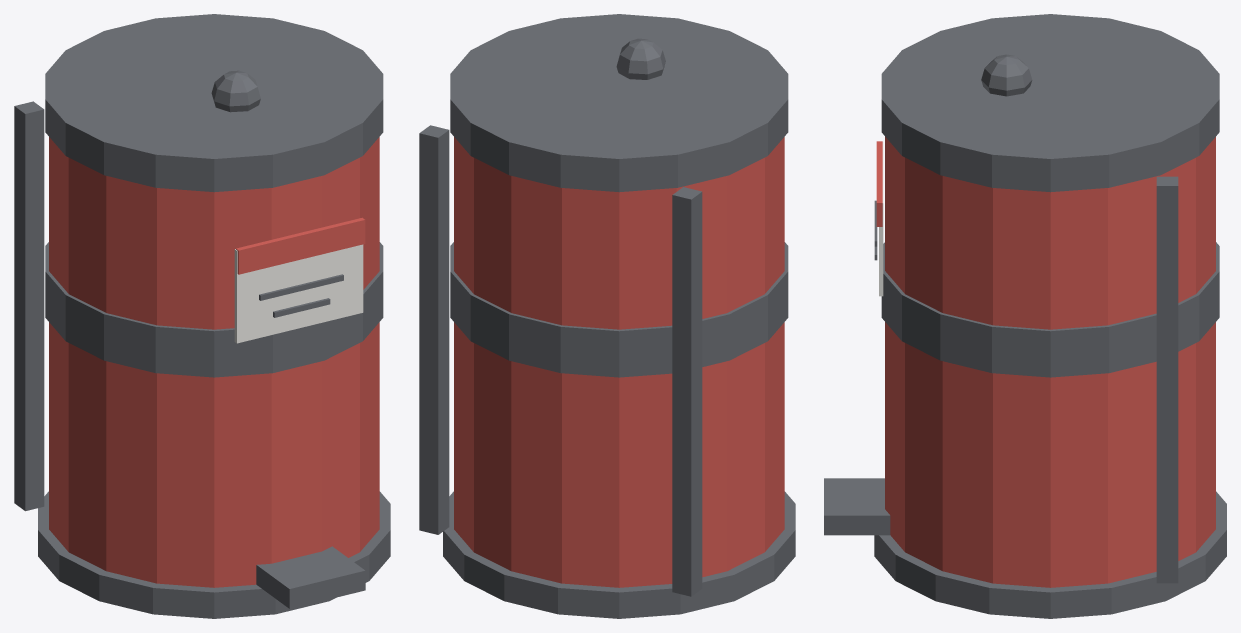
Rendered from boarding-kennels-and-cattery-boarding-kennels-and-catt-3587f620__35563.glb.
3 views of the same model, side by side, from view 1: azimuth 30°, elevation 25°; view 2: azimuth 150°, elevation 25°; view 3: azimuth 270°, elevation 25° (orthographic).
Visible parts, largest first — view 1: boarding-kennels-and-cattery-clinical-waste-bin, bin-lid/charcoal; view 2: boarding-kennels-and-cattery-clinical-waste-bin, bin-lid/charcoal; view 3: boarding-kennels-and-cattery-clinical-waste-bin, bin-lid/charcoal.
Part boxes in pixels (x1,y1,x2,y2): boarding-kennels-and-cattery-clinical-waste-bin: [14, 101, 390, 618]; bin-lid/charcoal: [45, 14, 383, 192]; boarding-kennels-and-cattery-clinical-waste-bin: [419, 125, 795, 618]; bin-lid/charcoal: [450, 14, 788, 192]; boarding-kennels-and-cattery-clinical-waste-bin: [824, 136, 1226, 618]; bin-lid/charcoal: [881, 14, 1219, 192].
Bounding box in the file's own units: 0.49 × 0.735 × 0.5512.
